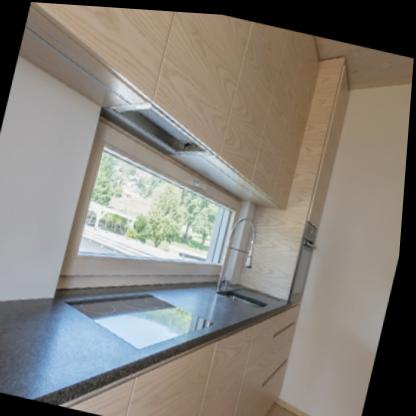Cabinet: (30, 2, 321, 206), (74, 301, 305, 416)
Window: (63, 113, 245, 275)
